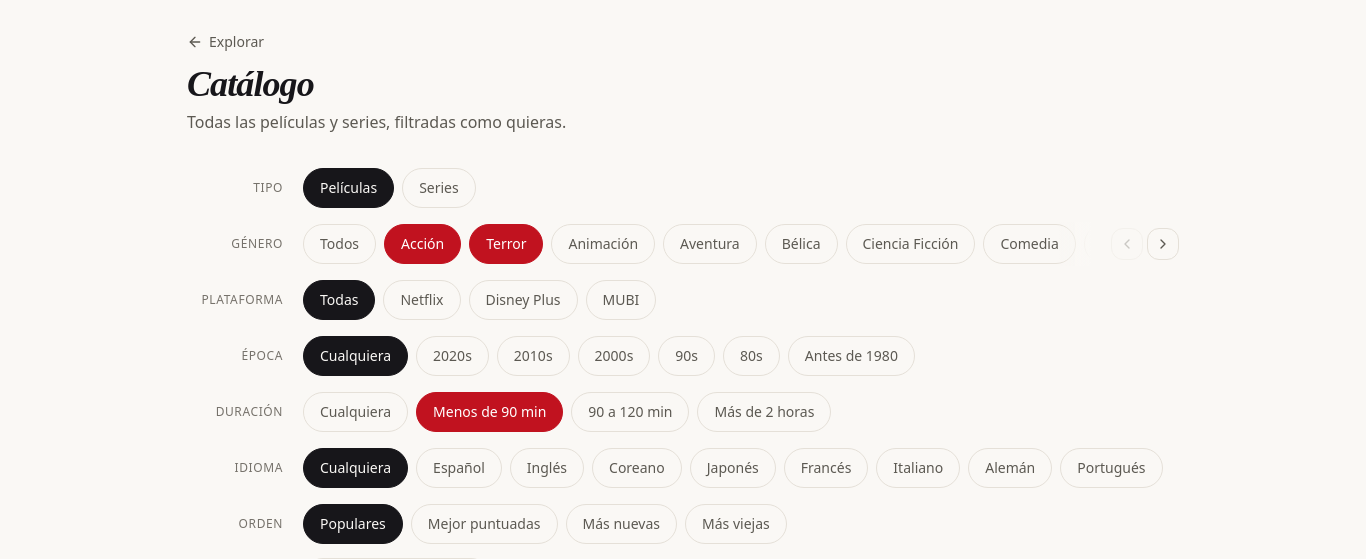
CatalogView › al pasar a series traduce los géneros y saca la duración
Expected: the element named "Filtrar por duración" is shown, left=216, top=392, right=831, bottom=432
Click the button "Series": (439, 188) left=402, top=168, right=476, bottom=208
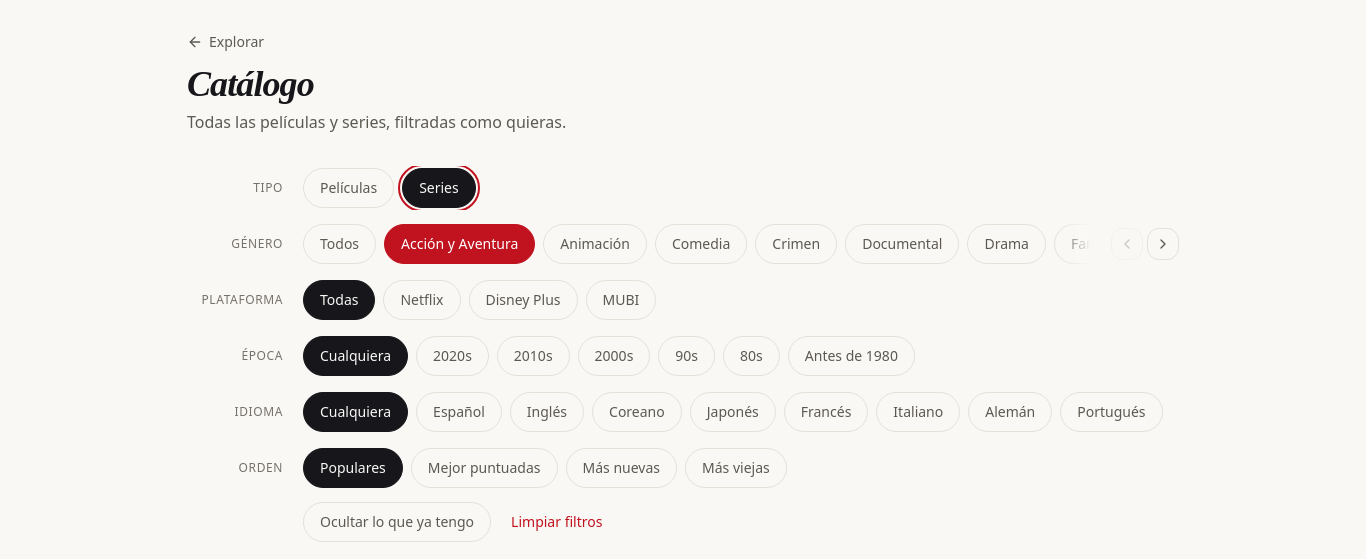
Expected: the button "Acción y Aventura" is shown, left=384, top=224, right=535, bottom=264
